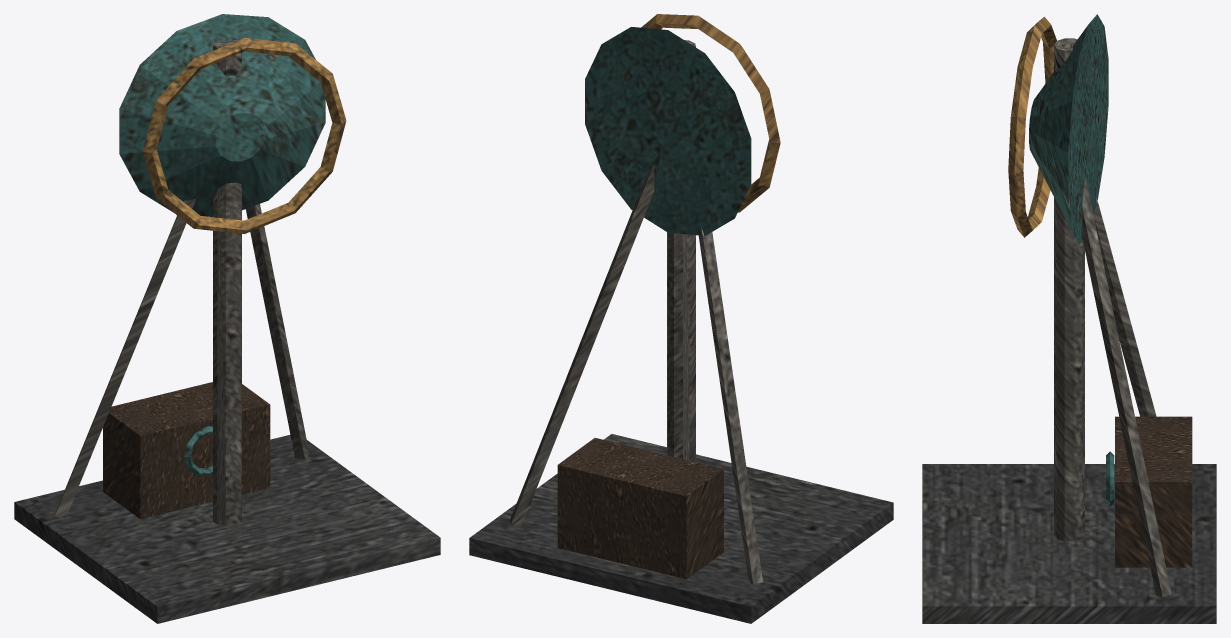
The model's file is far-horizon-listening-post.glb.
3 renders of one model, left to right at view 1: azimuth 30°, elevation 25°; view 2: azimuth 150°, elevation 25°; view 3: azimuth 270°, elevation 25°, orthographic. The views are drawn at different scales.
Parts seen in each view (by area): view 1: far-horizon-listening-post; view 2: far-horizon-listening-post; view 3: far-horizon-listening-post.
Boxes of the visible parts, <box> form: far-horizon-listening-post: <box>14,14,440,623</box>; far-horizon-listening-post: <box>469,14,893,623</box>; far-horizon-listening-post: <box>922,14,1216,623</box>.
Size of the model in its own units: 4.8 by 8.35 by 4.2.
1 material, 1 textured.
